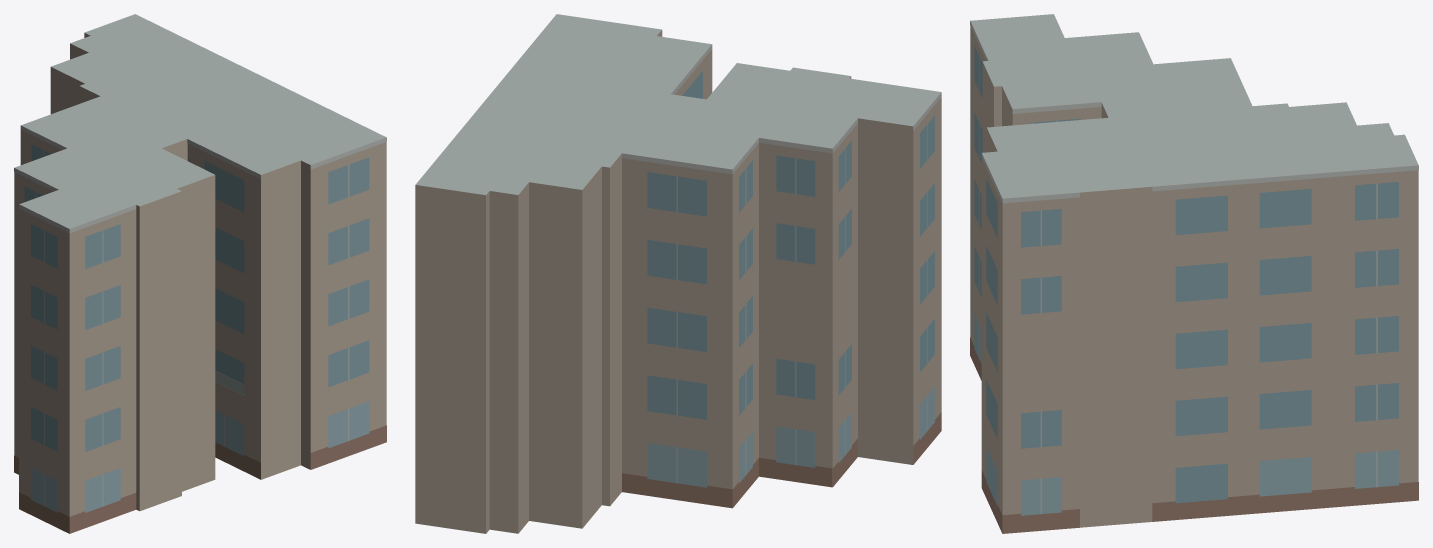
The model's file is survey-upis-32922457.glb.
3 renders of one model, left to right at view 1: azimuth 30°, elevation 25°; view 2: azimuth 150°, elevation 25°; view 3: azimuth 270°, elevation 25°, orthographic. The views are drawn at different scales.
Visible parts, largest first — view 1: survey-upis-32922457.tmp; view 2: survey-upis-32922457.tmp; view 3: survey-upis-32922457.tmp.
Part boxes in pixels (x1,y1,x2,y2): survey-upis-32922457.tmp: (14, 14, 386, 533); survey-upis-32922457.tmp: (415, 14, 941, 533); survey-upis-32922457.tmp: (970, 14, 1418, 533).
Bounding box in the file's own units: 20.34 × 17.2 × 20.87.
